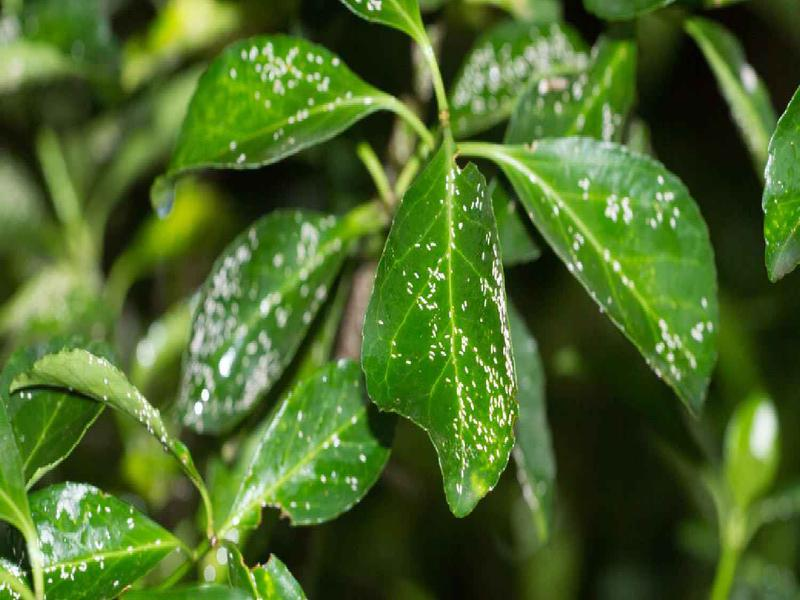Mealy_bug: (370, 164, 517, 474)
